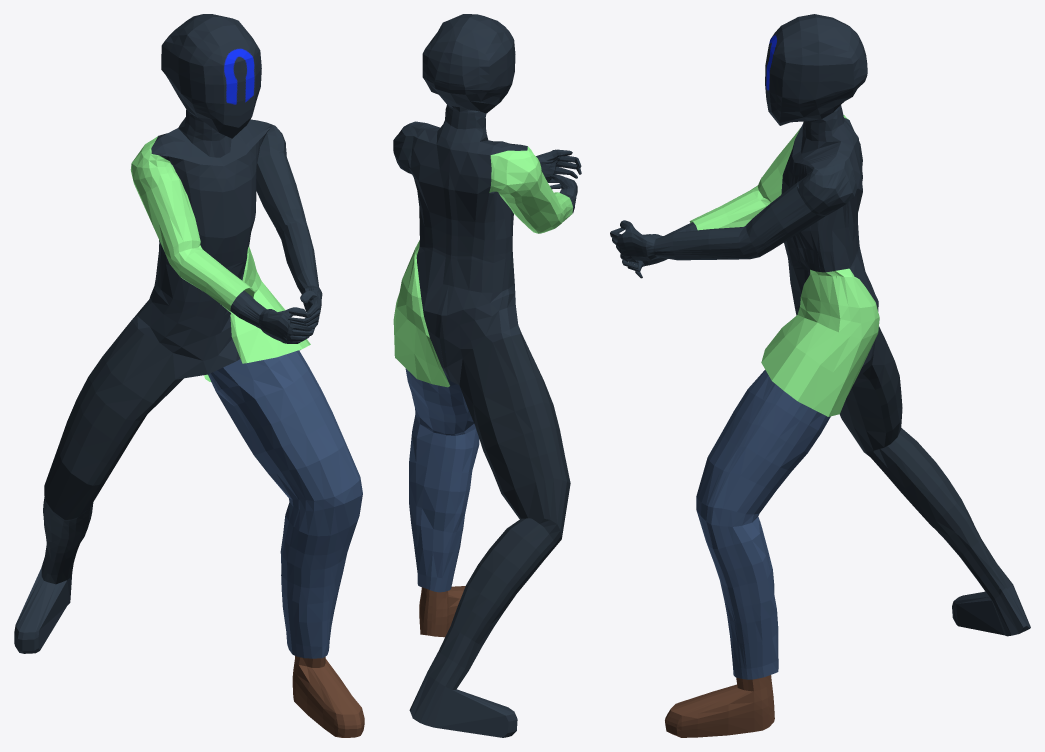
The model's file is Mar_WL_000024.obj.
3 views of the same model, side by side, from view 1: azimuth 30°, elevation 25°; view 2: azimuth 150°, elevation 25°; view 3: azimuth 270°, elevation 25° (orthographic). The views are drawn at different scales.
Parts seen in each view (by area): view 1: Cube.000_Cube.001; view 2: Cube.000_Cube.001; view 3: Cube.000_Cube.001.
Boxes of the visible parts, <box> form: Cube.000_Cube.001: <box>14,14,364,737</box>; Cube.000_Cube.001: <box>393,14,581,737</box>; Cube.000_Cube.001: <box>610,14,1030,737</box>.
Bounding box in the file's own units: 1.31 × 3.73 × 2.09.
